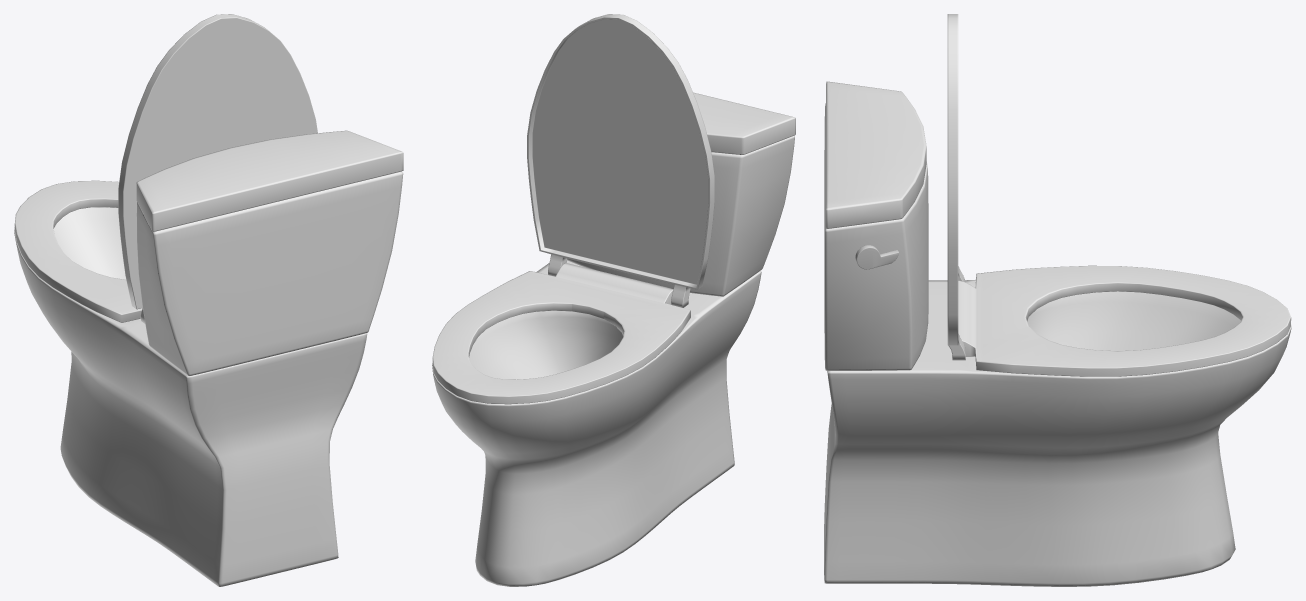
The model's file is Toilet03.glb.
3 renders of one model, left to right at view 1: azimuth 30°, elevation 25°; view 2: azimuth 150°, elevation 25°; view 3: azimuth 270°, elevation 25°, orthographic. The views are drawn at different scales.
Visible parts, largest first — view 1: Toilet03_model, ToiletCover03, ToiletSeat03; view 2: Toilet03_model, ToiletCover03, ToiletSeat03; view 3: Toilet03_model, ToiletSeat03, ToiletCover03, ToiletHandle03.
Boxes of the visible parts, <box> form: Toilet03_model: <box>14,130,403,586</box>; ToiletCover03: <box>118,14,317,323</box>; ToiletSeat03: <box>14,180,142,322</box>; Toilet03_model: <box>432,92,795,586</box>; ToiletCover03: <box>527,14,714,307</box>; ToiletSeat03: <box>432,263,690,404</box>; Toilet03_model: <box>824,81,1291,586</box>; ToiletSeat03: <box>958,265,1291,376</box>; ToiletCover03: <box>947,14,965,360</box>; ToiletHandle03: <box>855,245,898,269</box>.
Size of the model in its own units: 0.9394 by 1.83 by 1.45.
Materials: 1 (1 with a texture image).
